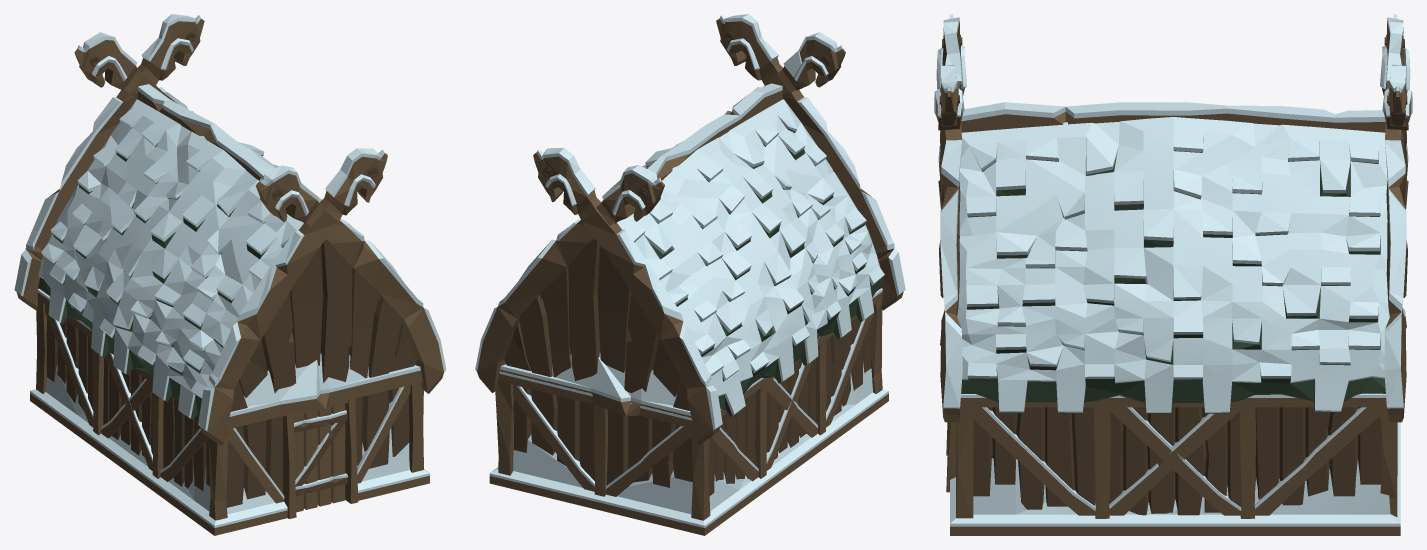
Rendered from Casa_Larga03.glb.
3 renders of one model, left to right at view 1: azimuth 30°, elevation 25°; view 2: azimuth 150°, elevation 25°; view 3: azimuth 270°, elevation 25°, orthographic. The views are drawn at different scales.
Visible parts, largest first — view 1: SM_Bld_Roof_02_Snow, SM_Bld_Base_Long_Door_02_Snow; view 2: SM_Bld_Roof_02_Snow, SM_Bld_Base_Long_Door_02_Snow; view 3: SM_Bld_Roof_02_Snow, SM_Bld_Base_Long_Door_02_Snow.
Boxes of the visible parts, bbox=[...] form: SM_Bld_Roof_02_Snow: bbox=[14, 14, 446, 445]; SM_Bld_Base_Long_Door_02_Snow: bbox=[30, 289, 429, 535]; SM_Bld_Roof_02_Snow: bbox=[475, 14, 905, 444]; SM_Bld_Base_Long_Door_02_Snow: bbox=[489, 288, 888, 535]; SM_Bld_Roof_02_Snow: bbox=[934, 14, 1412, 422]; SM_Bld_Base_Long_Door_02_Snow: bbox=[946, 393, 1400, 535].
Size of the model in its own units: 5.16 by 7.11 by 7.2.
Materials: 2 (2 with a texture image).
